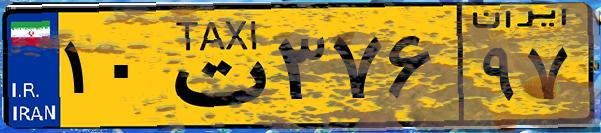0: (110, 28, 158, 98)
1: (57, 26, 110, 100)
3: (270, 28, 330, 110)
6: (385, 28, 445, 110)
7: (330, 28, 385, 110), (525, 38, 570, 115)
9: (475, 38, 525, 113)
ت: (158, 12, 270, 120)
